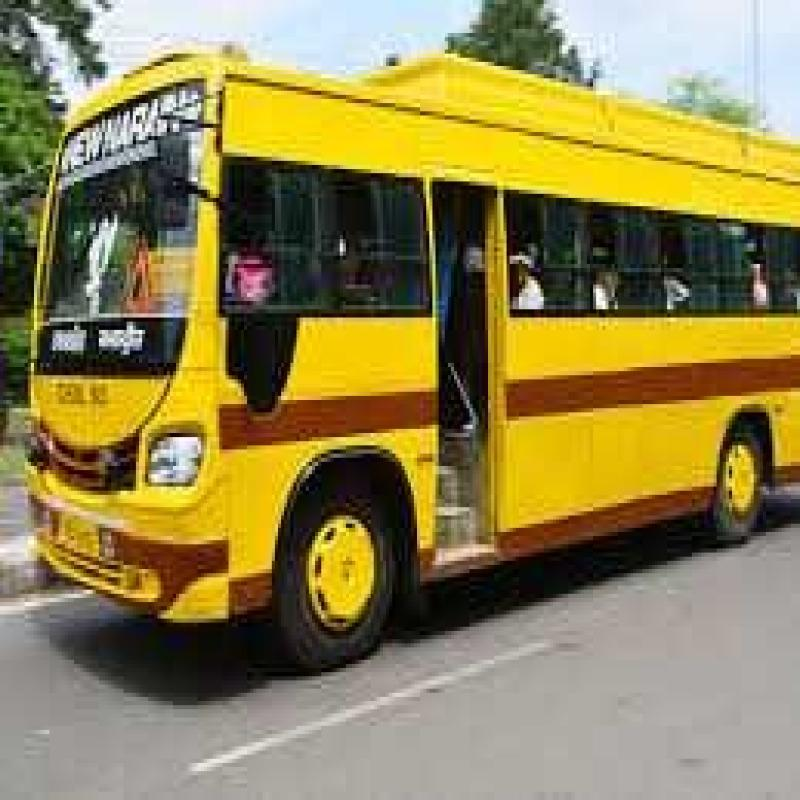bus: (37, 29, 800, 734)
